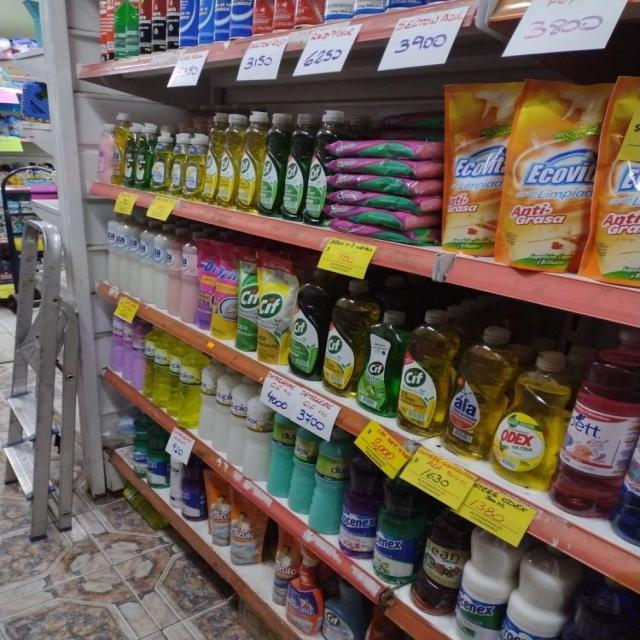ala_conc_amarillo: (446, 323, 501, 461)
ala_crem_blanco: (152, 220, 167, 311)
ala_crem_rosado: (180, 226, 197, 324), (167, 224, 181, 320)
cif_conc_bot_amarilla: (398, 308, 447, 436), (324, 276, 360, 397), (239, 110, 260, 212), (219, 111, 238, 208), (205, 111, 219, 206)
cif_conc_botella_verde: (290, 266, 324, 380), (282, 111, 305, 222), (260, 111, 282, 218)
cif_conc_sachet_amarillo: (258, 252, 289, 368)
heroe: (269, 413, 291, 500)
magistral_con_amarillo: (152, 127, 170, 194), (170, 131, 185, 198)
odex: (494, 348, 560, 487)
